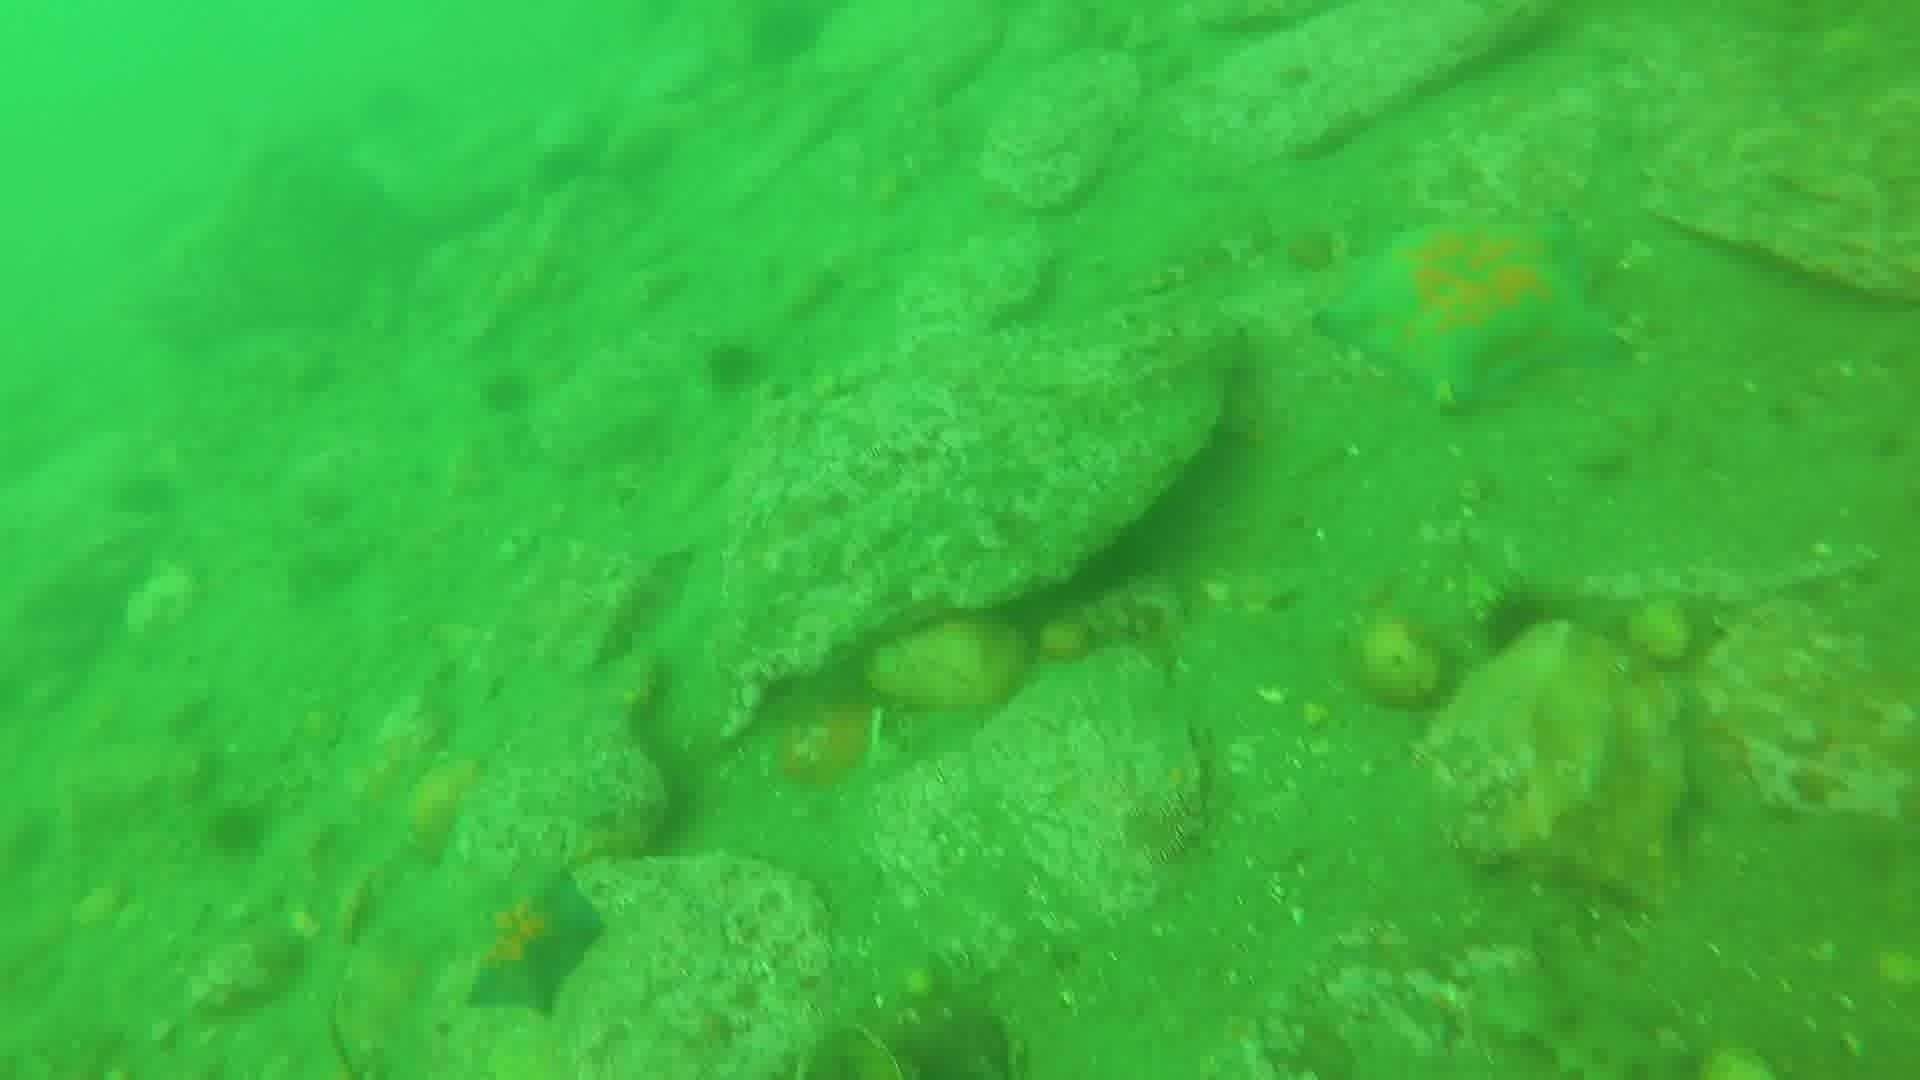echinus: (1472, 582, 1567, 665), (737, 3, 833, 73), (200, 799, 276, 864), (698, 334, 770, 400), (105, 459, 179, 524), (291, 476, 364, 541), (473, 365, 538, 419)
holothurian: (1457, 949, 1691, 1077)
starfish: (1313, 211, 1627, 415), (455, 861, 611, 1019)
